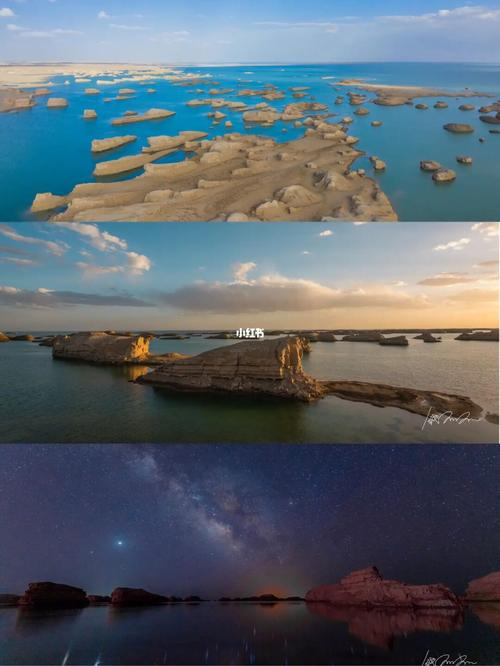sea_river: (19, 216, 478, 317), (99, 335, 482, 403)
sky_cloud: (21, 3, 480, 57)
